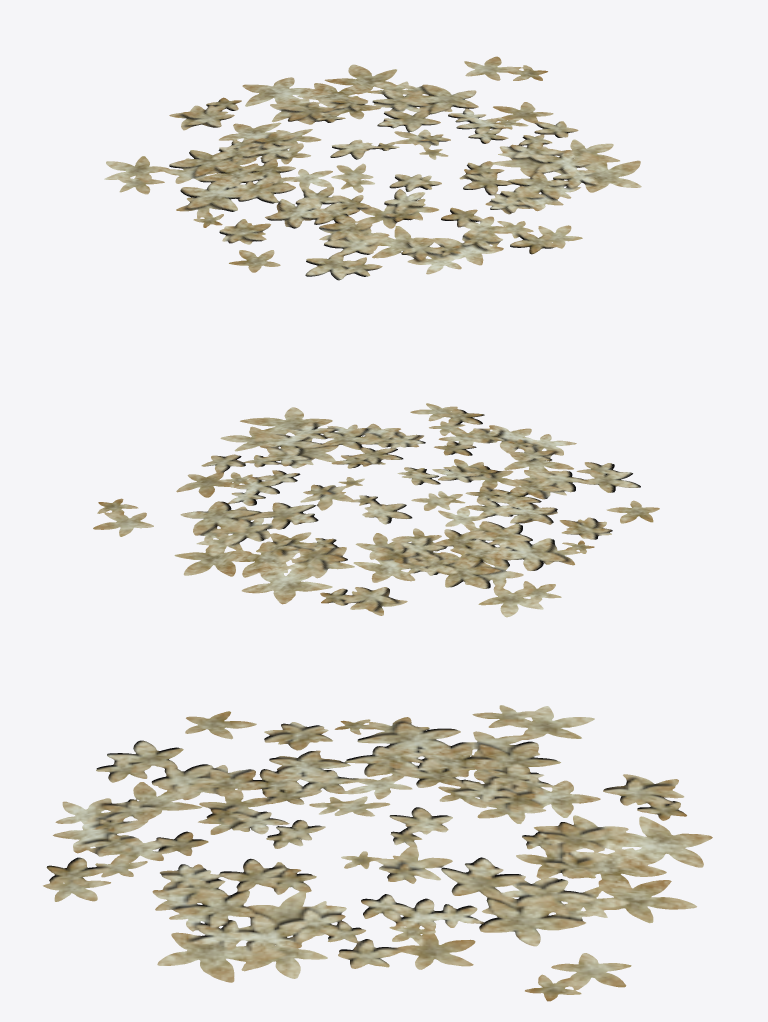
The model's file is SnowGrassLand_Alpha_02_001.FBX.
The picture shows the model from 3 angles, top to bottom: view 1: azimuth 30°, elevation 25°; view 2: azimuth 150°, elevation 25°; view 3: azimuth 270°, elevation 25°; orthographic projection. The views are drawn at different scales.
Parts seen in each view (by area): view 1: SnowGrassLand_Alpha_02_001; view 2: SnowGrassLand_Alpha_02_001; view 3: SnowGrassLand_Alpha_02_001.
Boxes of the visible parts, x1,y1,x2,y2 form: SnowGrassLand_Alpha_02_001: (104, 56, 641, 280); SnowGrassLand_Alpha_02_001: (93, 403, 659, 617); SnowGrassLand_Alpha_02_001: (43, 705, 712, 1001).
Size of the model in its own units: 6.69 by 0.2414 by 6.75.
